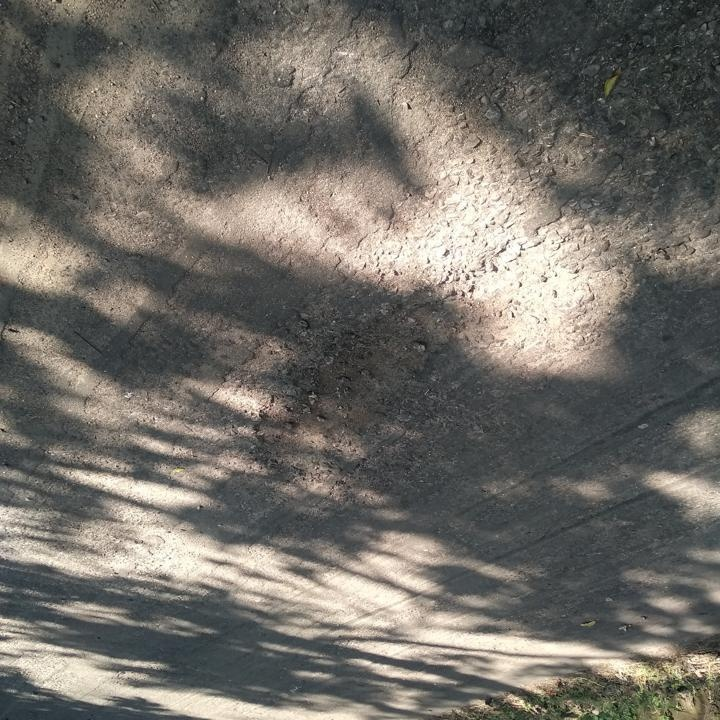pothole: (247, 279, 476, 482)
